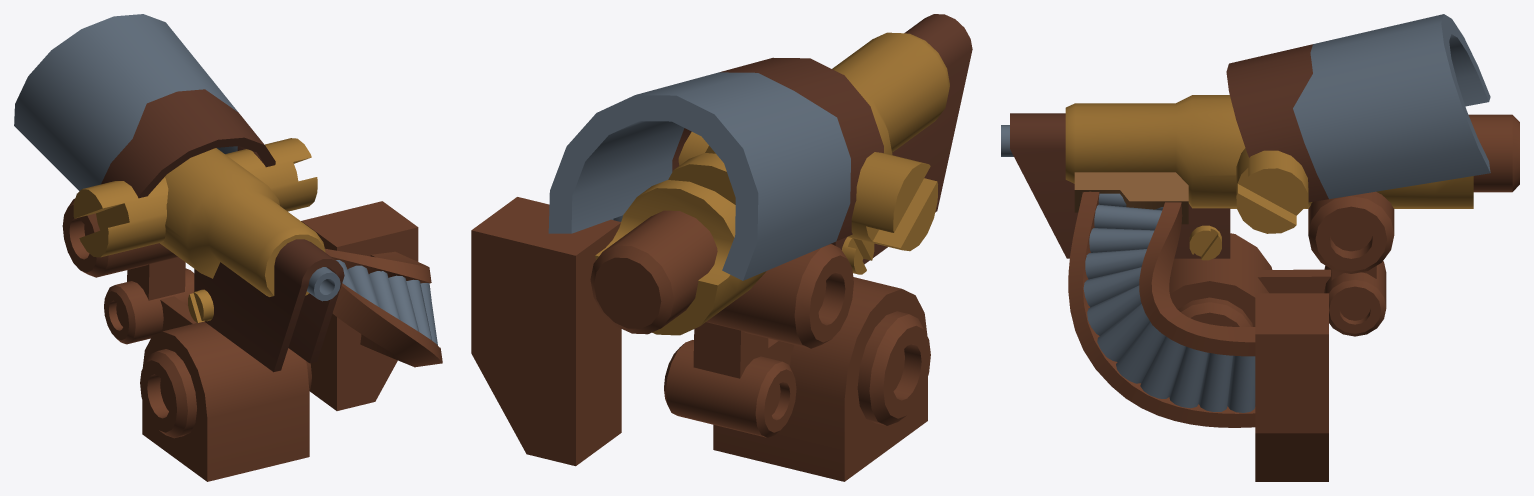
Rendered from BaseTile_Turret.fbx.
3 views of the same model, side by side, from view 1: azimuth 30°, elevation 25°; view 2: azimuth 150°, elevation 25°; view 3: azimuth 270°, elevation 25° (orthographic). The views are drawn at different scales.
Parts seen in each view (by area): view 1: BaseTile_Turret; view 2: BaseTile_Turret; view 3: BaseTile_Turret.
Boxes of the visible parts, x1=… form: BaseTile_Turret: x1=14, y1=14, x2=442, y2=481; BaseTile_Turret: x1=471, y1=14, x2=972, y2=481; BaseTile_Turret: x1=1001, y1=14, x2=1519, y2=481.
Size of the model in its own units: 1.15 by 1.24 by 1.57.
